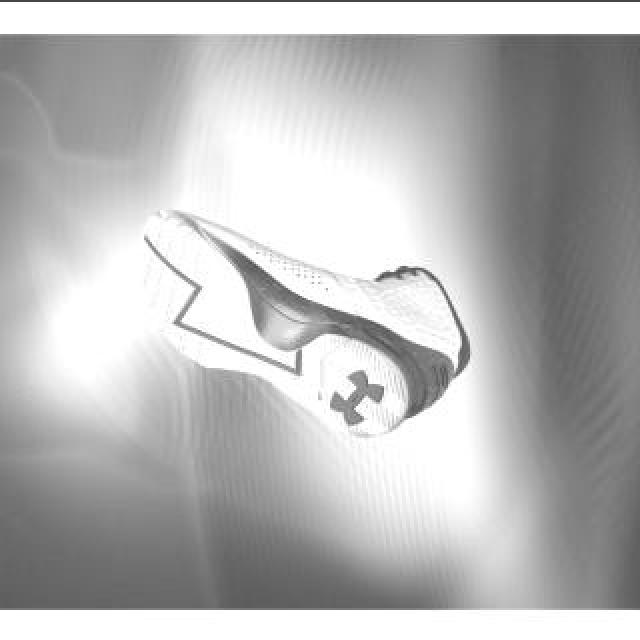shoe: (138, 206, 472, 436)
